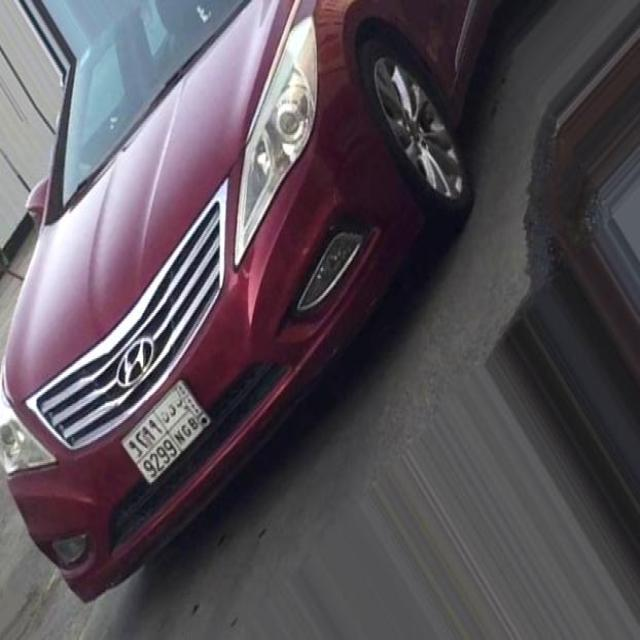Car-plate: (108, 360, 219, 502)
